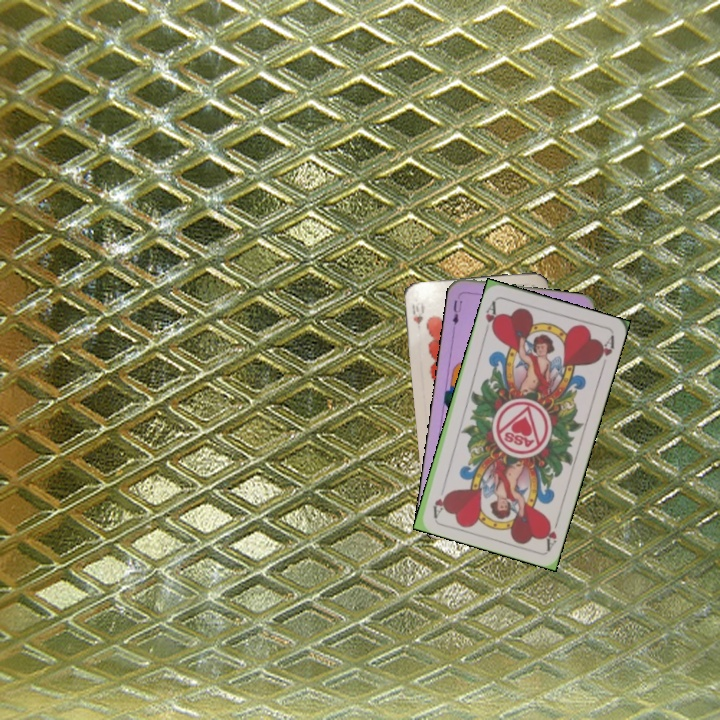EU: (448, 296, 465, 332)
H10: (408, 298, 426, 327)
HA: (540, 512, 562, 552), (481, 297, 501, 335)
